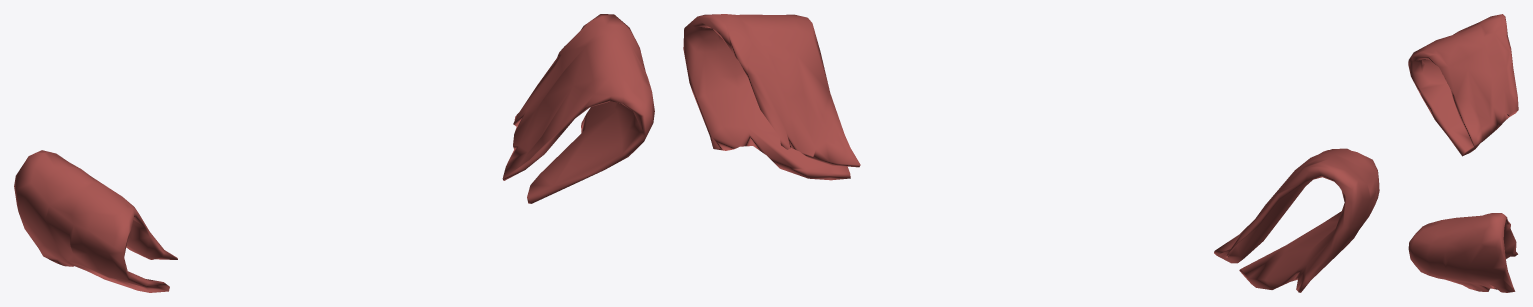
The model's file is other-muscle-structures.glb.
The picture shows the model from 3 angles, left to right: view 1: azimuth 30°, elevation 25°; view 2: azimuth 150°, elevation 25°; view 3: azimuth 270°, elevation 25°; orthographic projection. The views are drawn at different scales.
Parts seen in each view (by area): view 1: FMA264840, FMA258850; view 2: FMA264840, FMA258850; view 3: FMA258850, FMA264840.
Boxes of the visible parts, bbox=[...] form: FMA264840: bbox=[502, 14, 654, 203]; FMA258850: bbox=[14, 150, 177, 292]; FMA264840: bbox=[683, 14, 860, 180]; FMA258850: bbox=[1214, 148, 1379, 292]; FMA258850: bbox=[1408, 14, 1518, 156]; FMA264840: bbox=[1408, 213, 1517, 292].
Size of the model in its own units: 0.0323 by 0.00733 by 0.00692.
